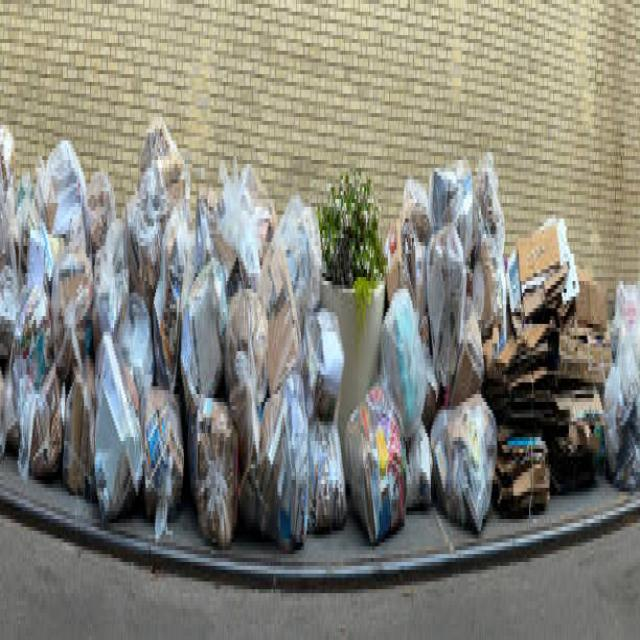cardboard: (506, 245, 589, 496)
trash: (24, 187, 304, 503)
